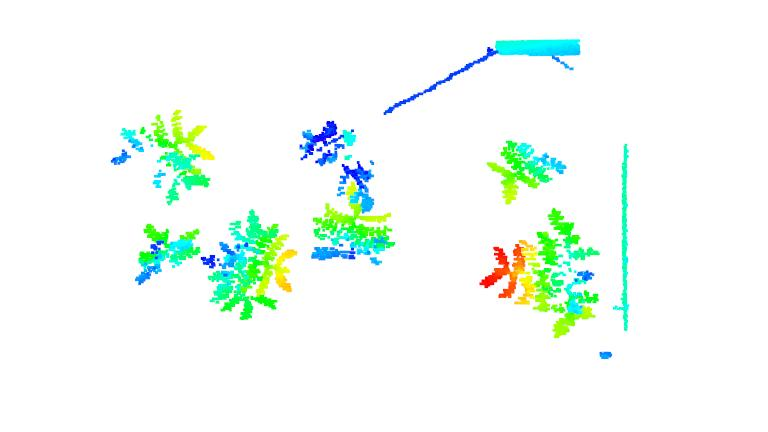chickpea: (479, 208, 599, 344), (201, 209, 294, 321), (111, 110, 214, 206), (297, 118, 377, 213), (310, 186, 396, 268), (484, 138, 569, 208), (132, 223, 203, 288)
